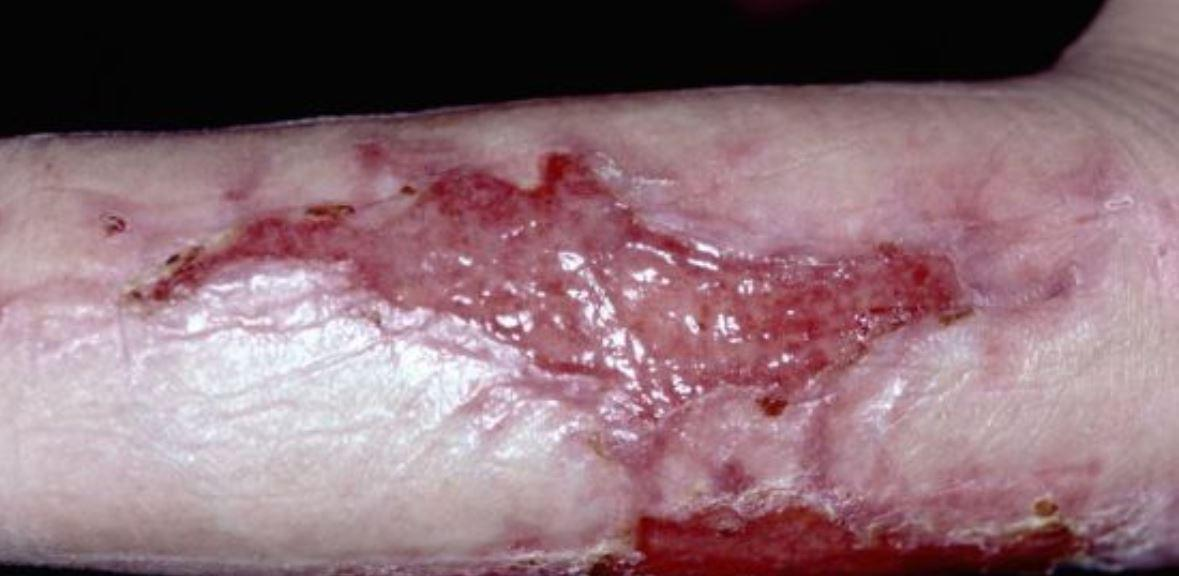NonPU: (72, 126, 1139, 574)
